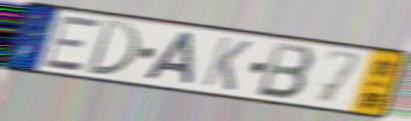7: (317, 47, 364, 107)
A: (140, 30, 197, 87)
B: (254, 40, 317, 102)
D: (84, 18, 142, 79)
E: (40, 15, 103, 74)
K: (200, 35, 254, 93)
